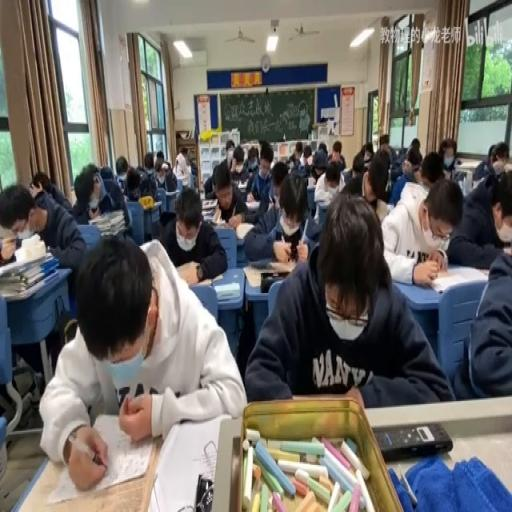calculator: (424, 264, 486, 292), (244, 260, 294, 286), (214, 282, 240, 300), (234, 222, 254, 240), (200, 198, 217, 218), (453, 168, 468, 189), (245, 199, 260, 209), (210, 216, 226, 225), (316, 196, 330, 206), (306, 175, 316, 188), (86, 213, 100, 222), (476, 266, 490, 274), (236, 181, 248, 189)
paper: (42, 232, 245, 488), (245, 192, 450, 411), (2, 178, 84, 286), (158, 181, 226, 283), (447, 161, 511, 267), (70, 162, 129, 239), (358, 151, 390, 222), (134, 154, 166, 223), (386, 145, 421, 206), (246, 141, 276, 210), (202, 150, 228, 198), (418, 149, 444, 189), (226, 142, 249, 186), (438, 138, 458, 179), (172, 149, 192, 188), (487, 141, 508, 176), (124, 165, 142, 201), (308, 151, 327, 185), (340, 171, 365, 196), (327, 139, 346, 171), (270, 165, 288, 198), (472, 156, 492, 180), (32, 170, 50, 194), (162, 168, 176, 192), (362, 142, 374, 168), (290, 140, 302, 164), (378, 132, 390, 156), (115, 155, 128, 176), (325, 171, 339, 189), (407, 138, 420, 155), (99, 164, 113, 179), (144, 152, 154, 172), (248, 148, 258, 163), (318, 142, 327, 158), (286, 156, 296, 170), (117, 174, 125, 190), (226, 138, 234, 151), (155, 158, 163, 171), (304, 149, 310, 162)
person: (374, 422, 451, 462), (194, 471, 214, 509)
